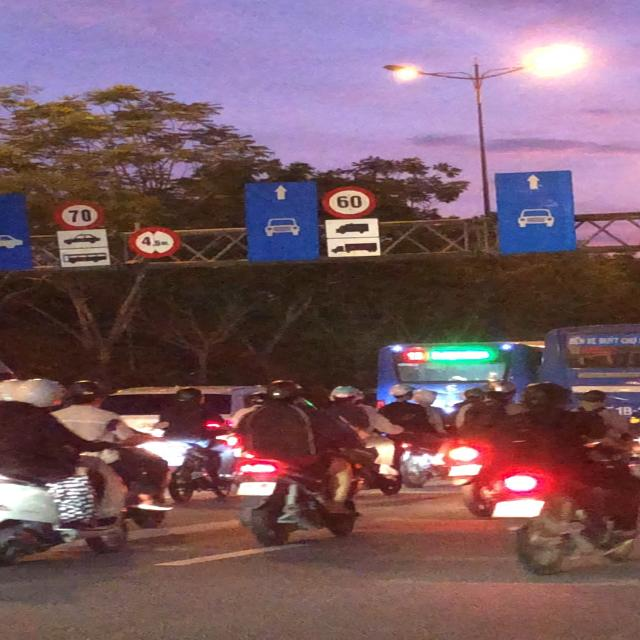Bien bao han che chieu cao: (124, 223, 184, 258)
Bien bao toc do toi da cho phep: (318, 182, 385, 218), (51, 197, 110, 231)
